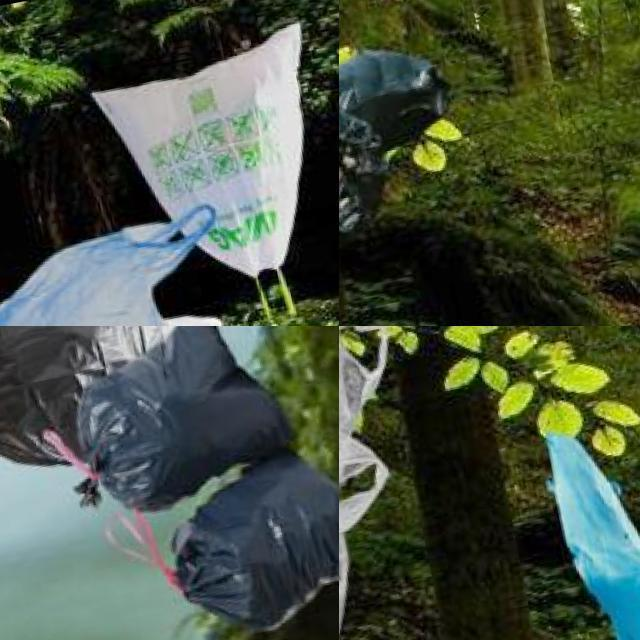waste: (81, 21, 339, 294), (54, 326, 300, 512), (0, 194, 327, 326), (154, 434, 339, 640), (0, 326, 208, 481), (537, 407, 640, 640), (339, 326, 423, 561), (339, 36, 456, 150), (339, 97, 387, 244)
